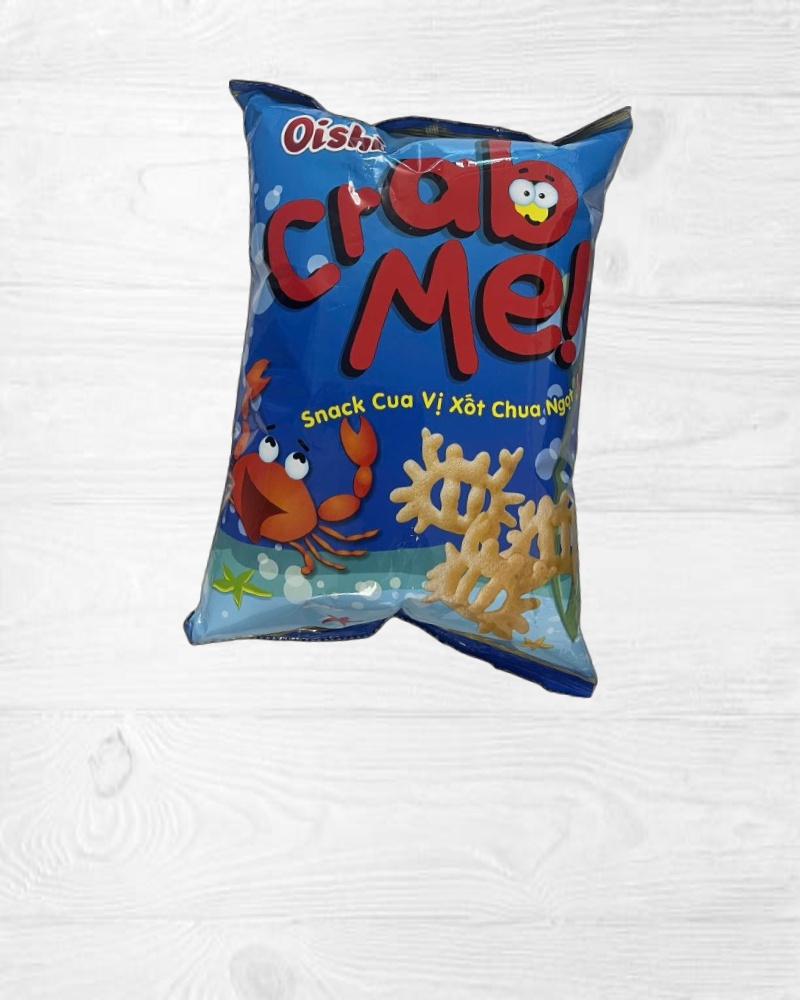Snack cua: (180, 72, 647, 693)
